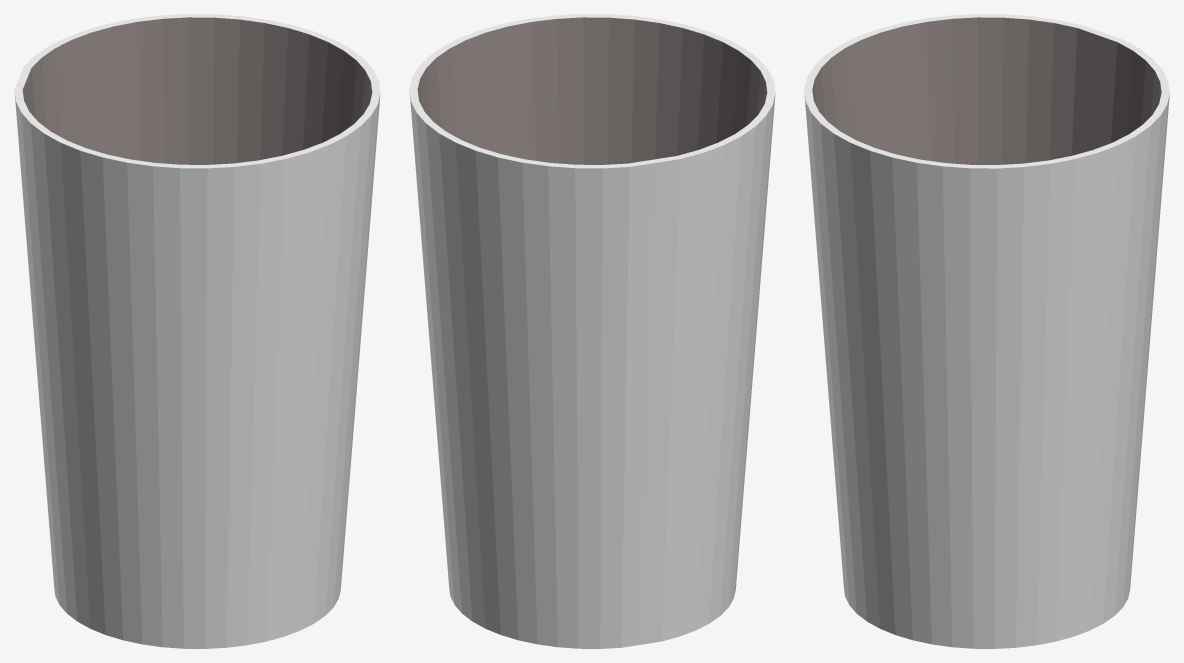
File: Empty.fbx
The picture shows the model from 3 angles, left to right: view 1: azimuth 30°, elevation 25°; view 2: azimuth 150°, elevation 25°; view 3: azimuth 270°, elevation 25°; orthographic projection.
Visible parts, largest first — view 1: coffee_cup.002; view 2: coffee_cup.002; view 3: coffee_cup.002.
Part boxes in pixels (box(x1,y1,x2,y2)): coffee_cup.002: box(14, 14, 380, 648); coffee_cup.002: box(409, 14, 775, 648); coffee_cup.002: box(804, 14, 1169, 648).
Size of the model in its own units: 8 by 12 by 8.
